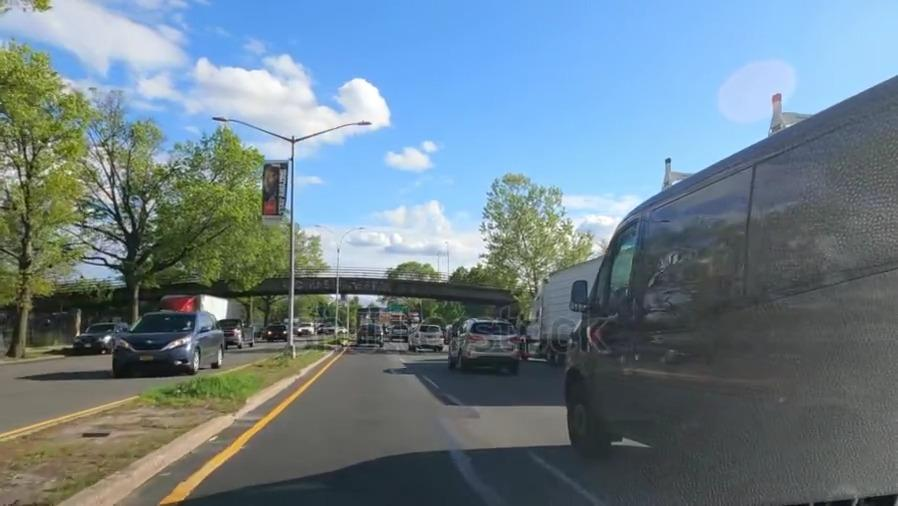car: (113, 309, 230, 381), (453, 317, 515, 372), (69, 320, 126, 352), (219, 318, 262, 347), (401, 325, 444, 350), (355, 322, 382, 349)
truck: (522, 248, 594, 368)
van: (597, 91, 897, 491)
wheel: (785, 434, 879, 506), (559, 376, 604, 458)
